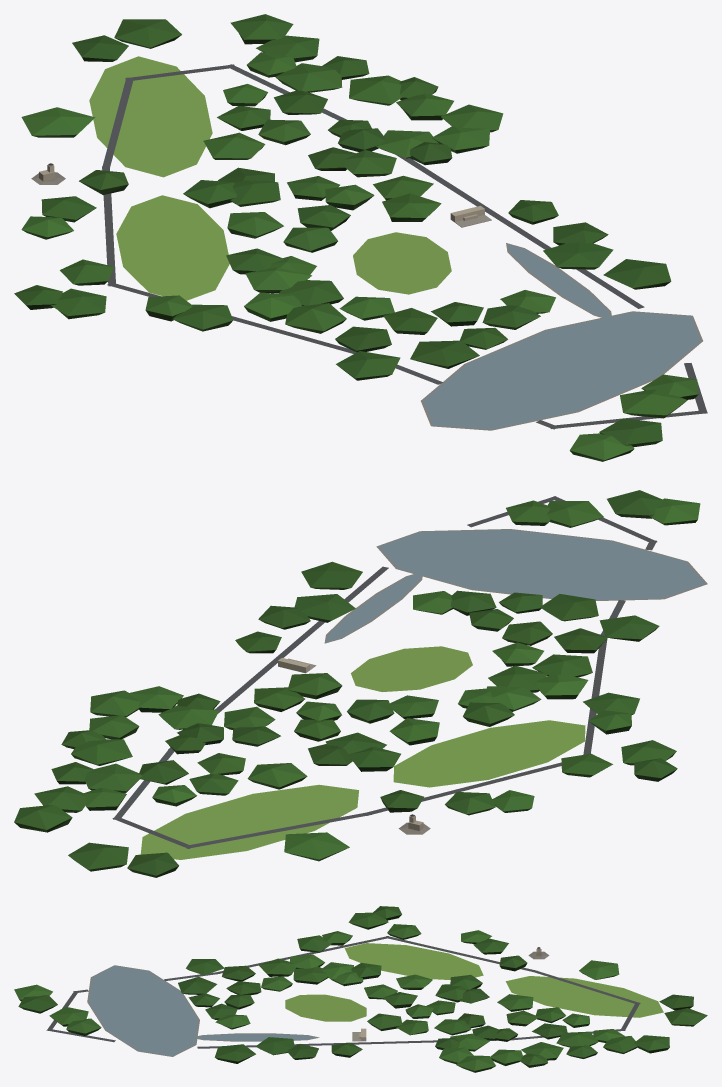
The picture shows the model from 3 angles, top to bottom: view 1: azimuth 30°, elevation 25°; view 2: azimuth 150°, elevation 25°; view 3: azimuth 270°, elevation 25°; orthographic projection. The views are drawn at different scales.
Parts seen in each view (by area): view 1: prospect-park-lod2; view 2: prospect-park-lod2; view 3: prospect-park-lod2.
Boxes of the visible parts, x1=… form: prospect-park-lod2: x1=14, y1=14, x2=707, y2=461; prospect-park-lod2: x1=14, y1=490, x2=707, y2=877; prospect-park-lod2: x1=14, y1=906, x2=707, y2=1072.
Bounding box in the file's own units: 1471 × 37.75 × 2621.
